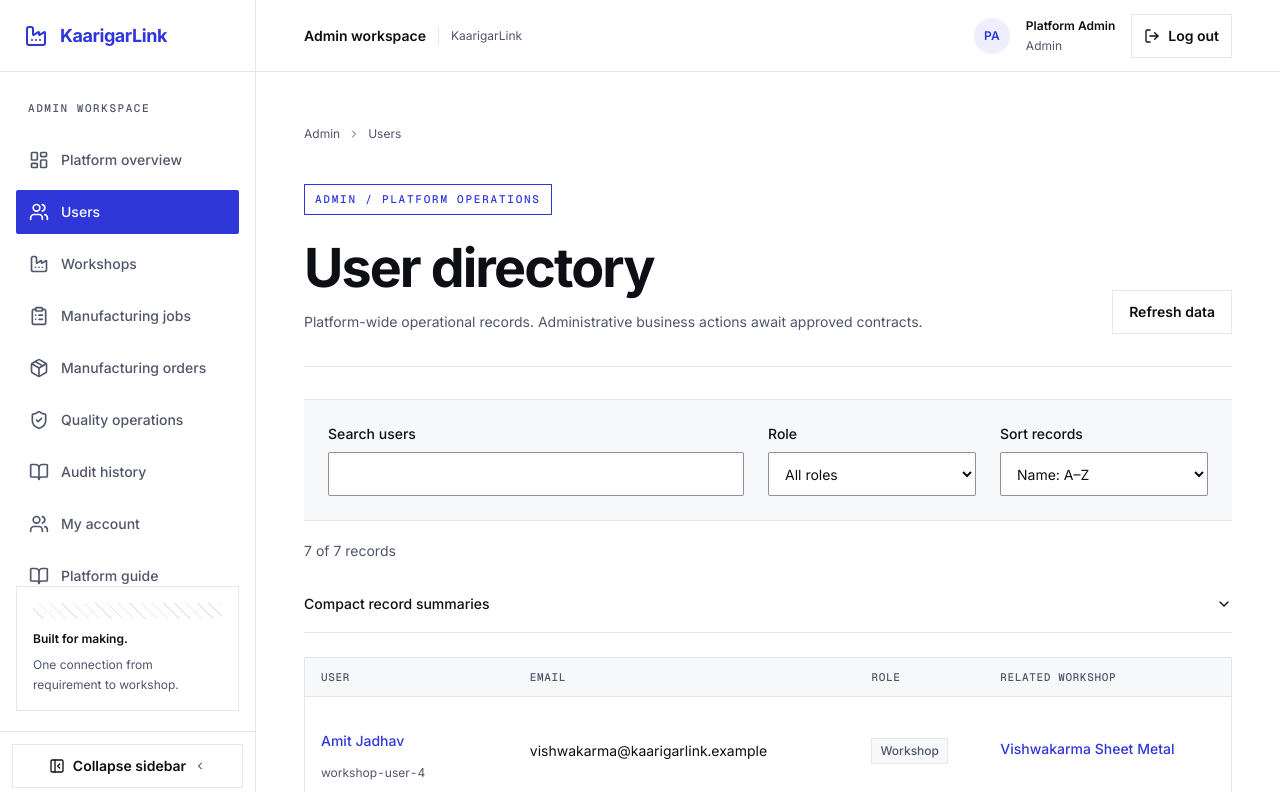
preserves admin directory filtering, record context and read-only authority
Select "Buyer" in the dropdown labelled "Role" at (872, 474), box [768,452,976,496]
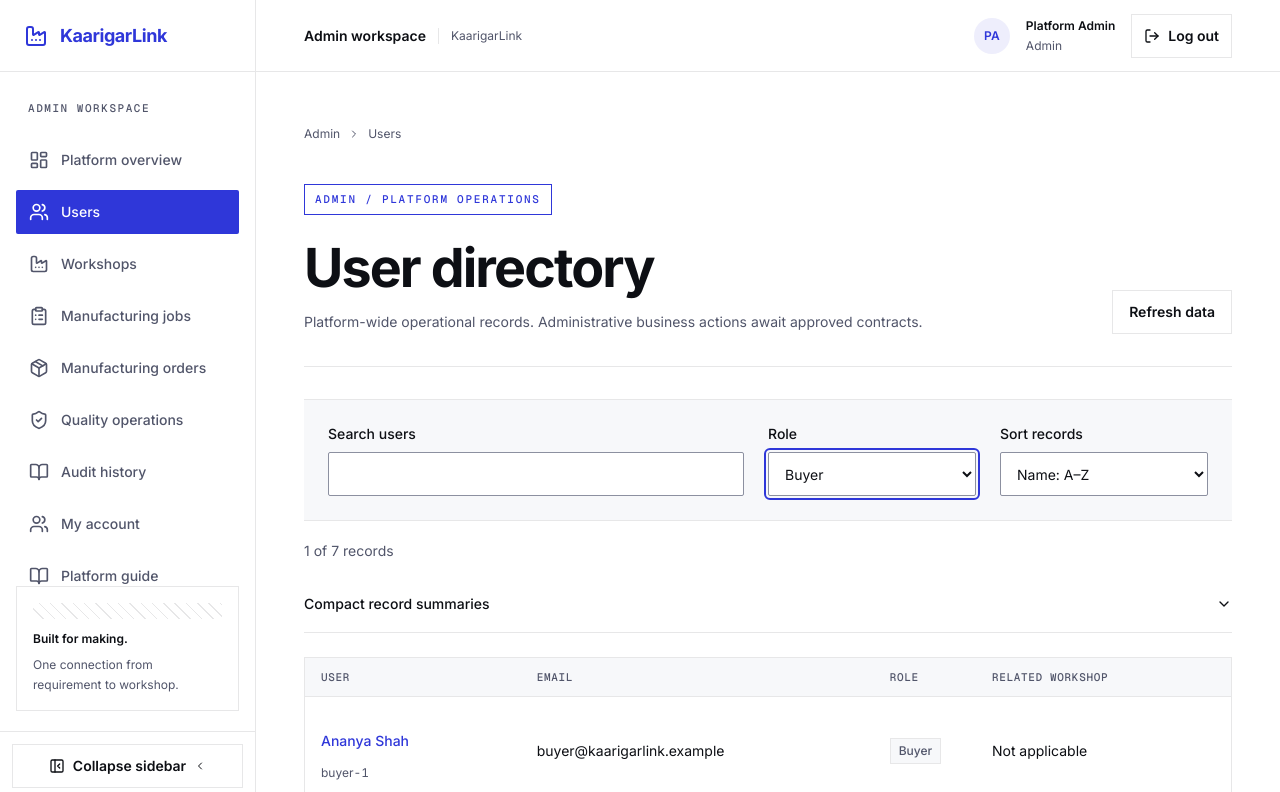
Expected: the message reads "1 of 7 records", [304,542,394,559]
Click the heading "Compact record summaries" at (397, 604), box [304,595,1232,612]
(page scrolled)
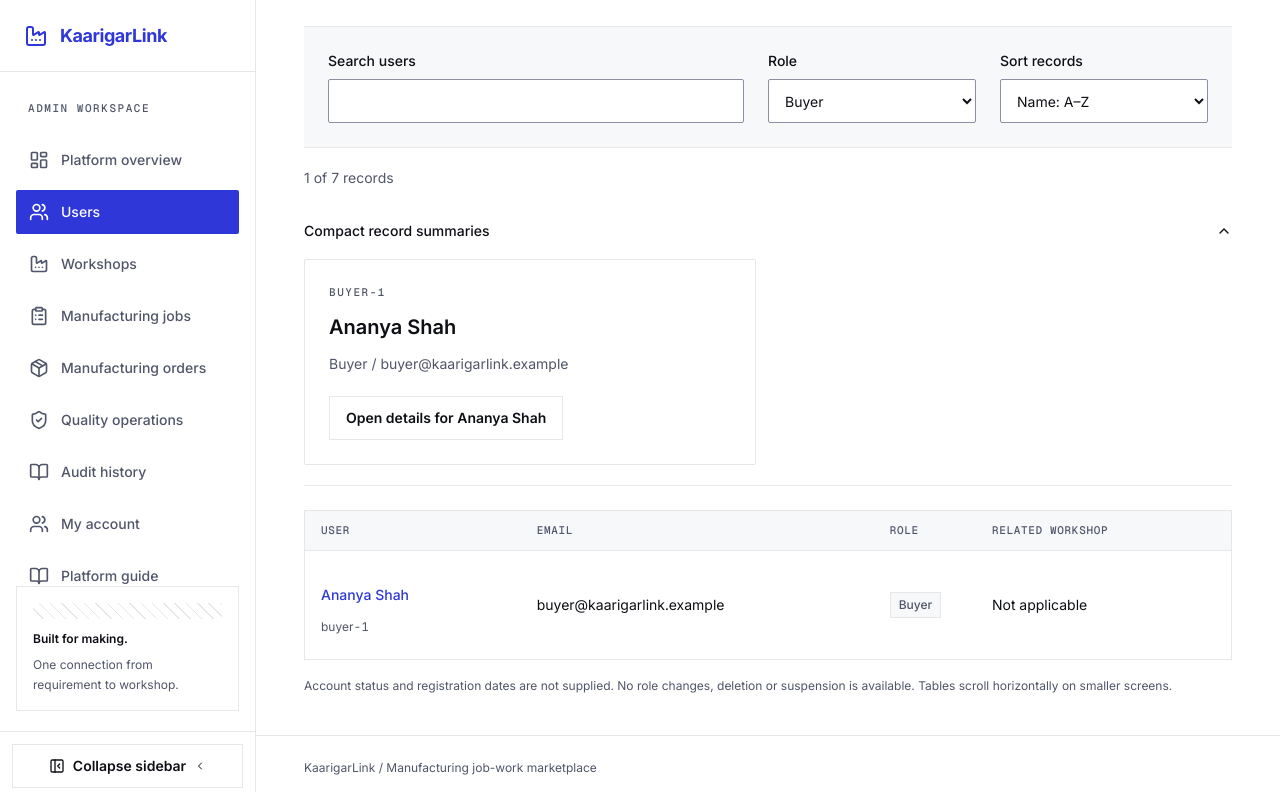
Click the link "Ananya Shah" at (365, 594), box [321,586,409,603]
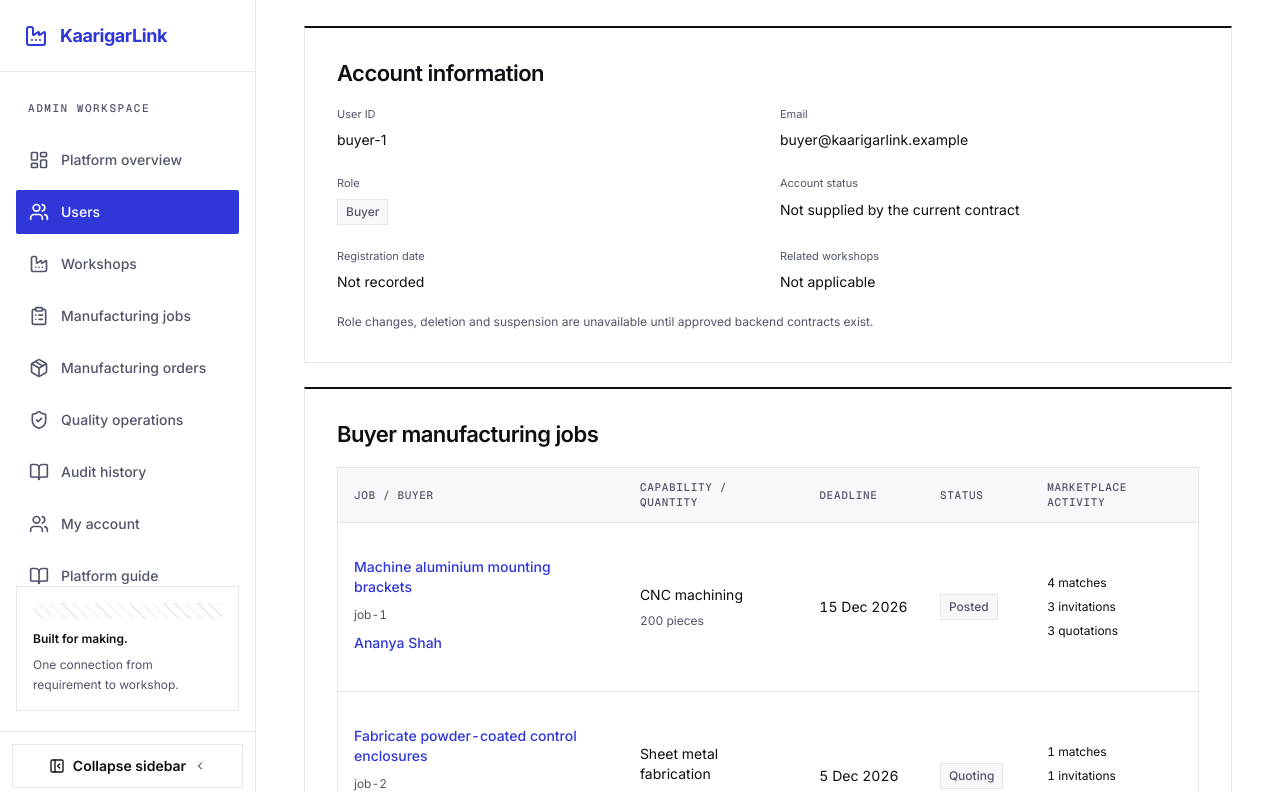
Expected: the element "Account information" shows "Not supplied by the current contract", [780,201,1020,218]
Expected: the button "Search users Role Sort records" is gone
